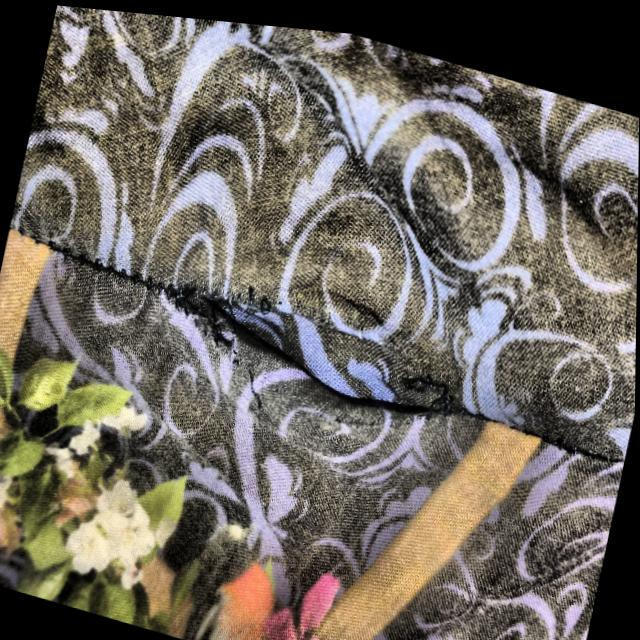seam: (130, 186, 498, 468)
